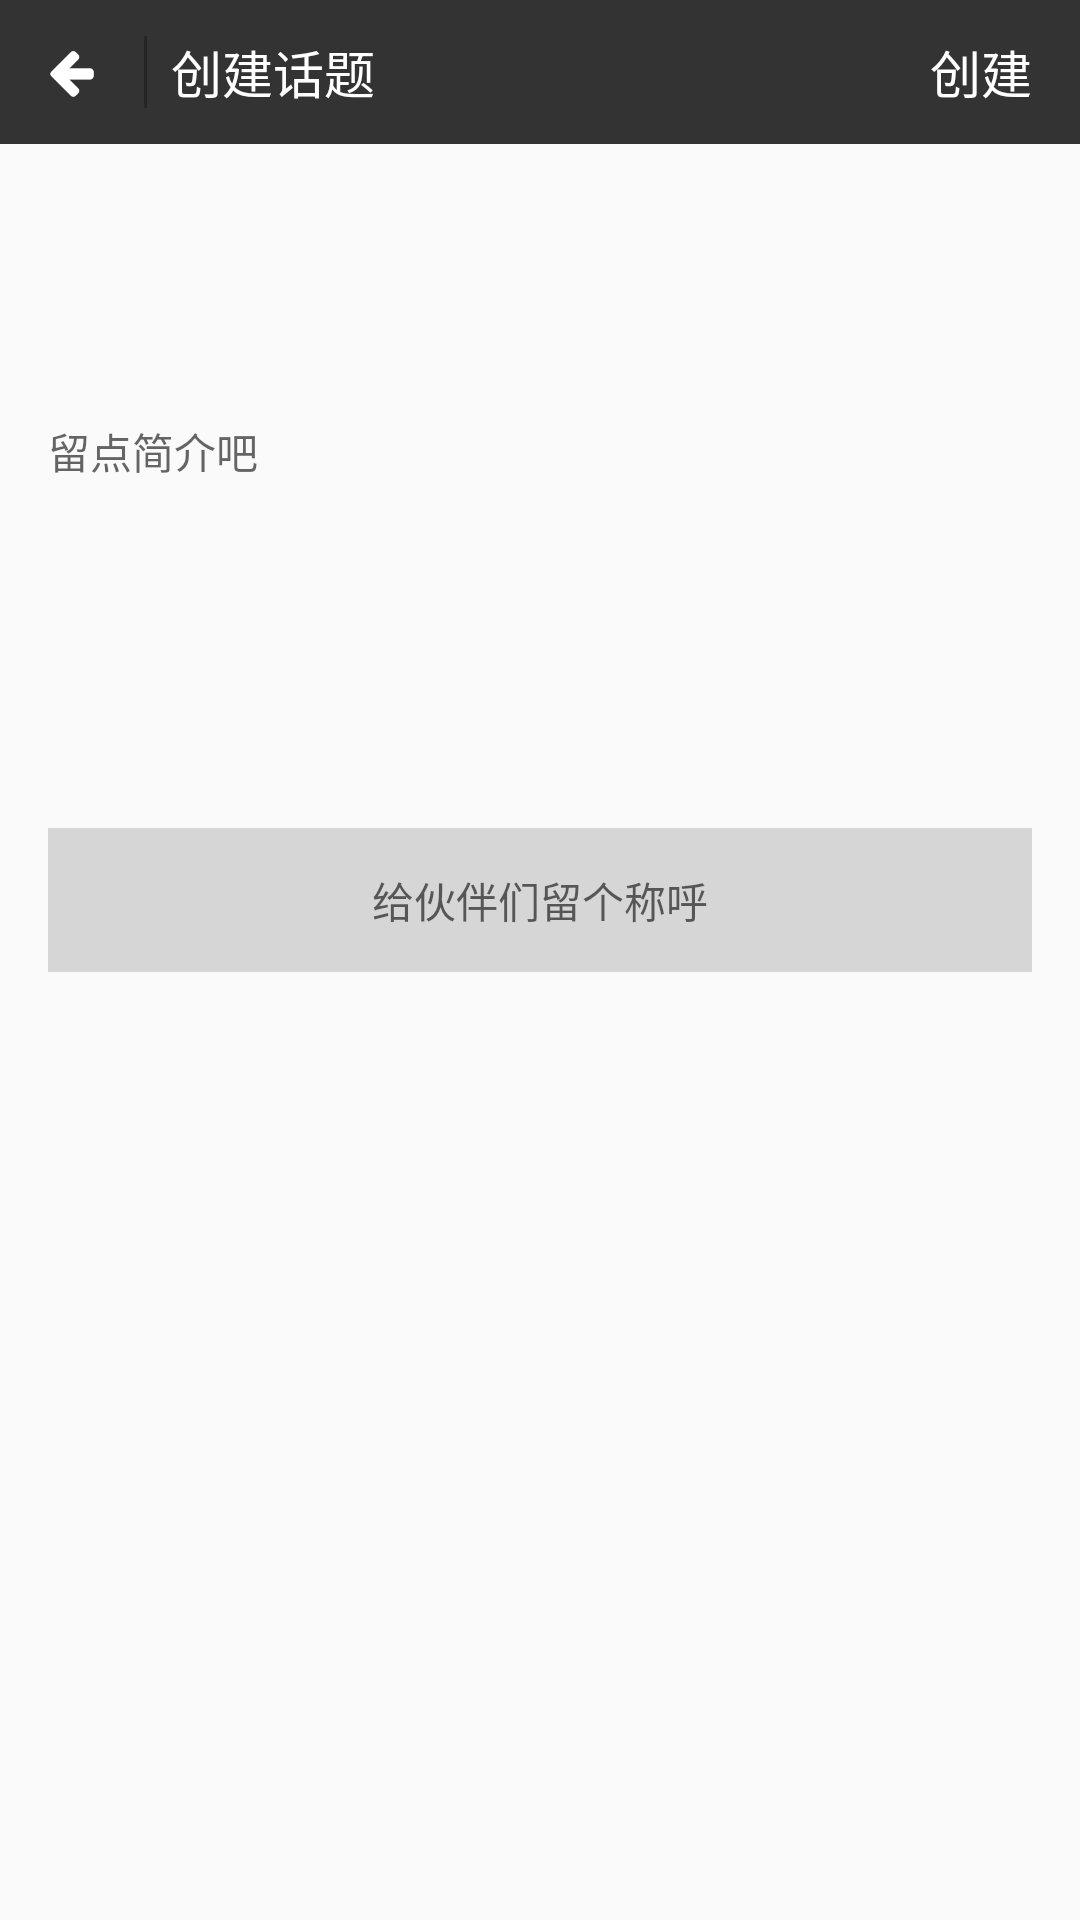

Screen size 1080px x 1920px. Icon name, then its center in pixels as (x=x, y=y):
back: (x=72, y=74)
